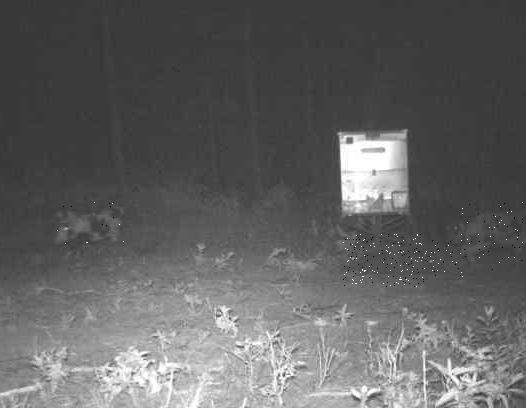Hog: (461, 202, 526, 270), (342, 235, 423, 288), (48, 202, 124, 249), (423, 240, 464, 278)
